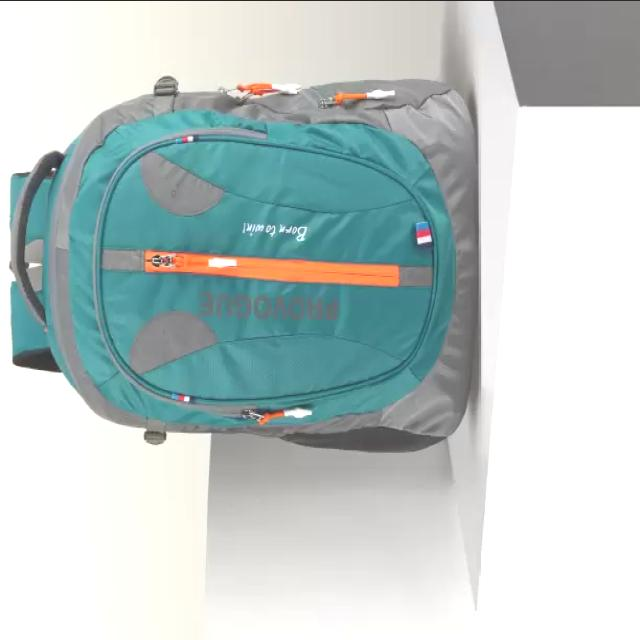backpack: (9, 76, 479, 454)
